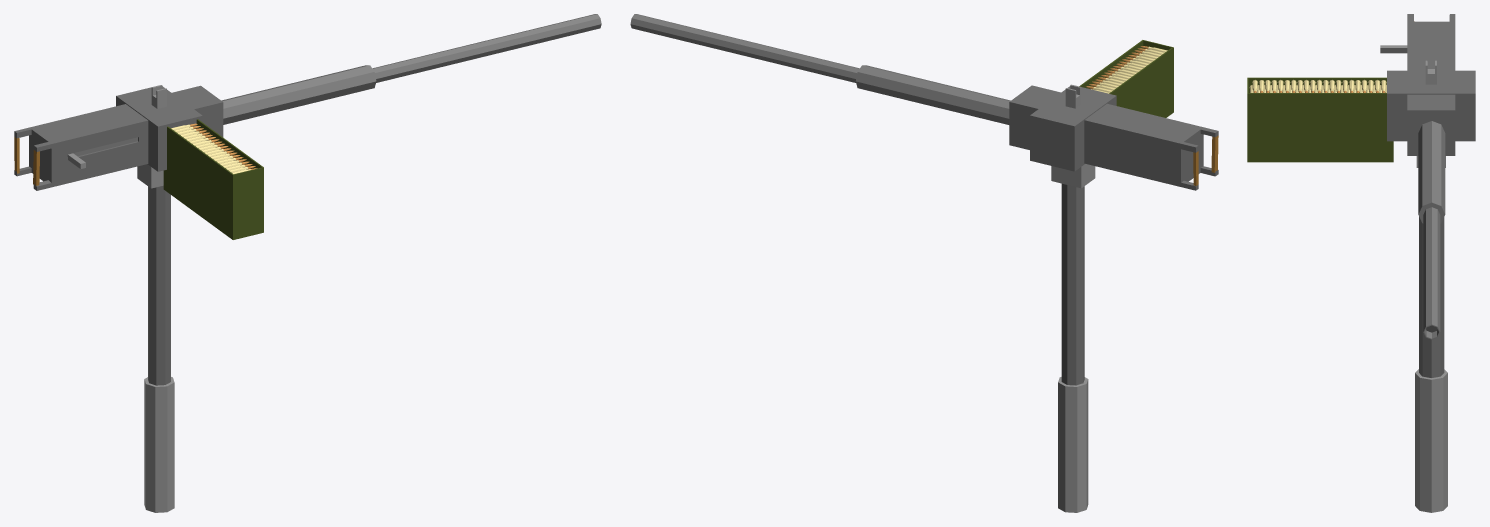
File: machine gun1.fbx
The picture shows the model from 3 angles, left to right: view 1: azimuth 30°, elevation 25°; view 2: azimuth 150°, elevation 25°; view 3: azimuth 270°, elevation 25°; orthographic projection. The views are drawn at different scales.
Parts seen in each view (by area): view 1: Cylinder_4; view 2: Cylinder_4; view 3: Cylinder_4.
Part boxes in pixels (x1=…): Cylinder_4: x1=14, y1=14, x2=601, y2=512; Cylinder_4: x1=630, y1=14, x2=1218, y2=512; Cylinder_4: x1=1247, y1=14, x2=1475, y2=512.
Size of the model in its own units: 225 by 157 by 73.41.
